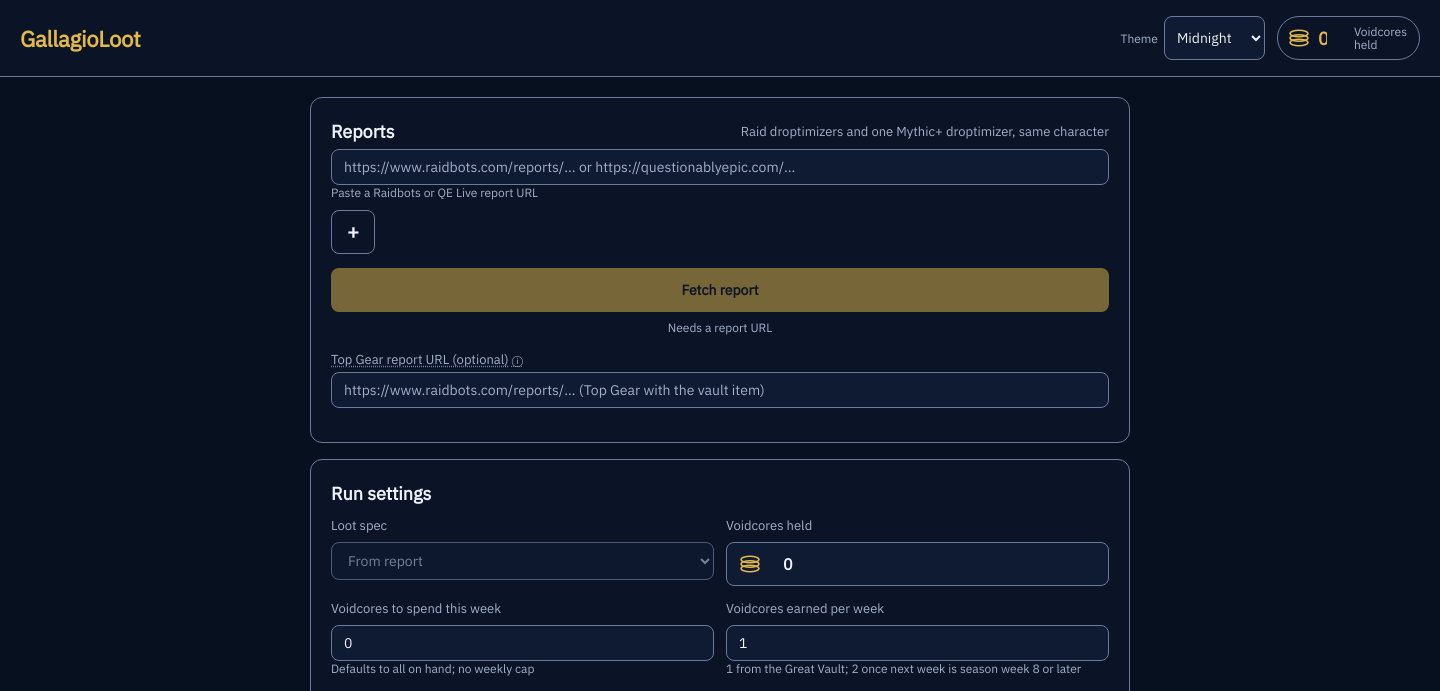
Reports panel: one compact block per report › collapses warnings under an "N notes" toggle, closed by default
The image size is (1440, 691).
Replace the text in the field with id "report-url" with "https://www.raidbots.com/simbot/report/6PTZ7TjgU8PdxJhZ97bMUa": [720, 167] box [331,149,1109,185]
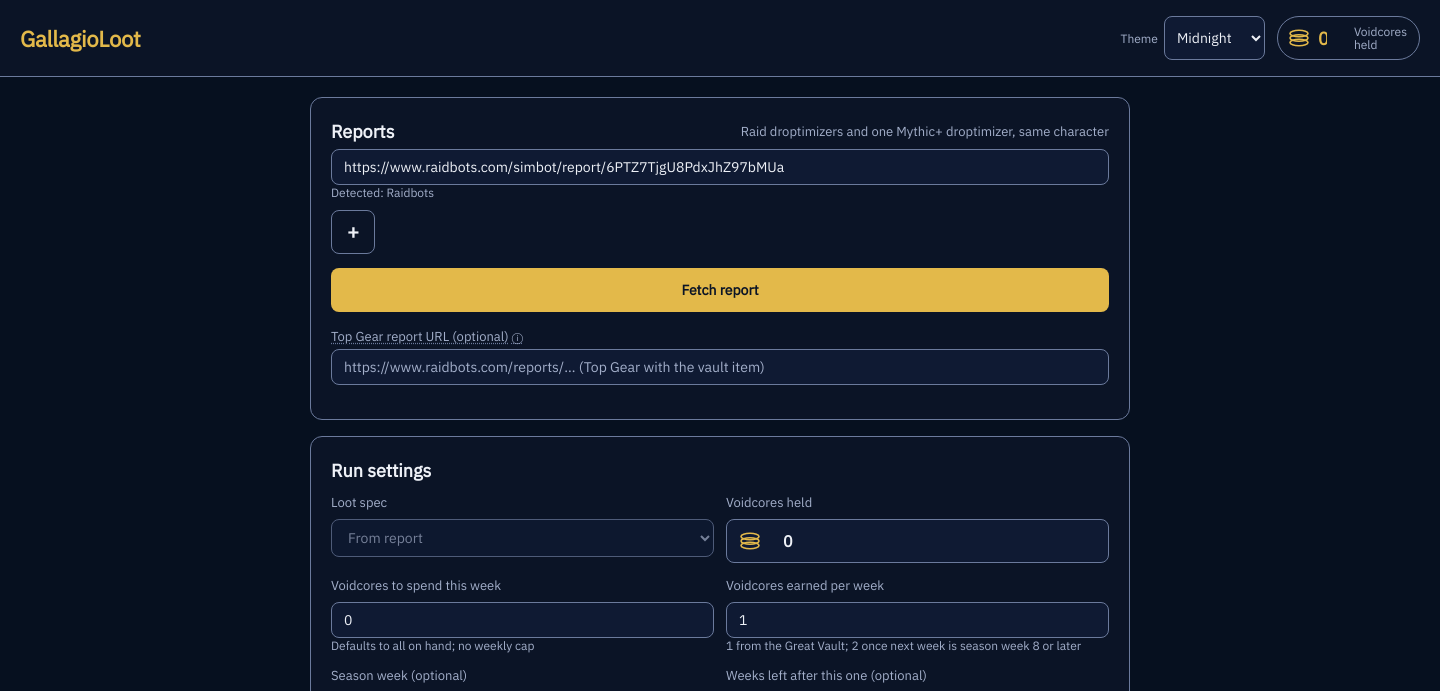
Click the button "Fetch report": [720, 290] box [331,268,1109,312]
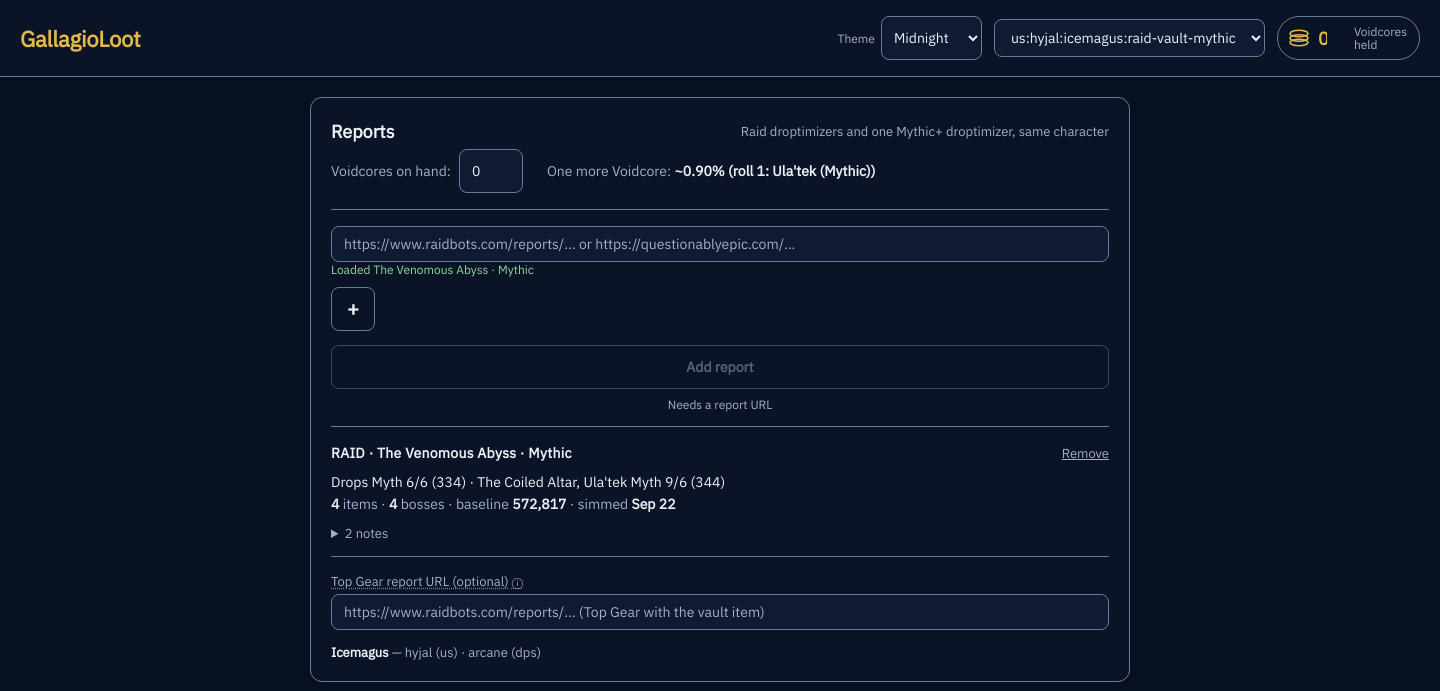
Check: the heading "2 notes" is shown, box [345,525,388,542]
